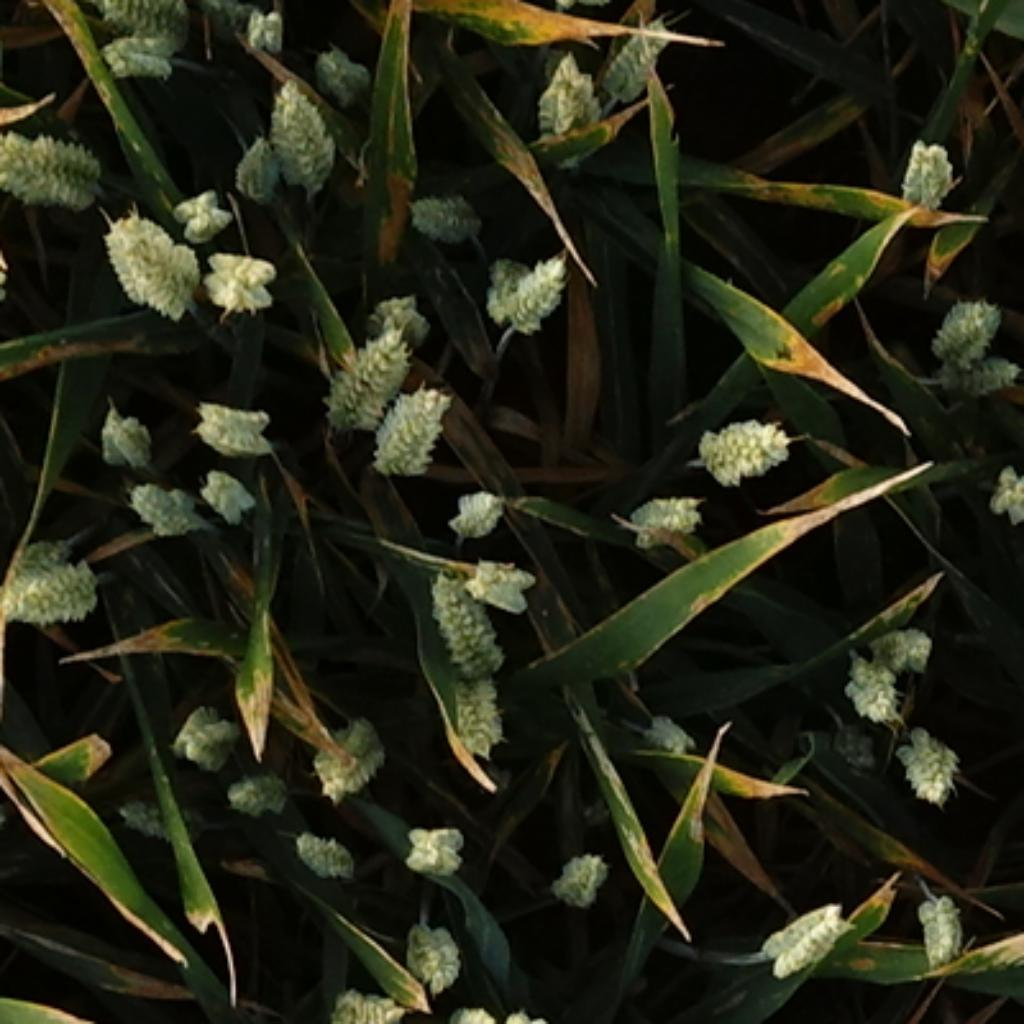0-0: (97, 197, 204, 309), (314, 309, 414, 424), (253, 71, 343, 189), (419, 563, 509, 675), (0, 123, 101, 212), (368, 372, 453, 470), (593, 18, 682, 110), (688, 414, 796, 488), (527, 40, 606, 140), (304, 716, 389, 803), (499, 250, 581, 337), (765, 901, 856, 978), (921, 284, 1002, 367), (0, 563, 92, 633), (888, 711, 962, 798), (92, 10, 189, 76), (441, 668, 510, 758), (189, 396, 279, 463), (168, 698, 245, 773), (398, 917, 467, 999), (230, 122, 294, 209), (199, 235, 276, 307), (619, 481, 704, 542), (401, 192, 486, 253), (371, 284, 437, 360), (837, 642, 903, 716), (908, 880, 967, 960), (125, 478, 204, 537), (0, 528, 81, 585), (222, 757, 296, 819), (103, 0, 211, 42), (468, 559, 545, 617), (120, 798, 207, 849), (898, 141, 957, 216), (542, 849, 611, 913), (307, 38, 376, 102), (486, 245, 532, 335), (286, 826, 358, 883), (399, 821, 468, 880), (865, 611, 934, 670), (940, 350, 1021, 400), (826, 709, 883, 780), (94, 401, 156, 465), (445, 473, 509, 532), (322, 983, 412, 1024), (199, 468, 261, 524), (230, 2, 291, 56), (174, 179, 232, 232), (634, 701, 693, 750), (983, 461, 1024, 529)
